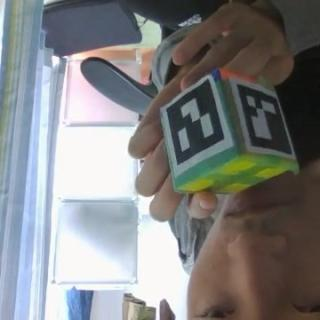armor: (160, 76, 233, 176), (228, 78, 294, 162)
robot: (158, 66, 298, 196)
